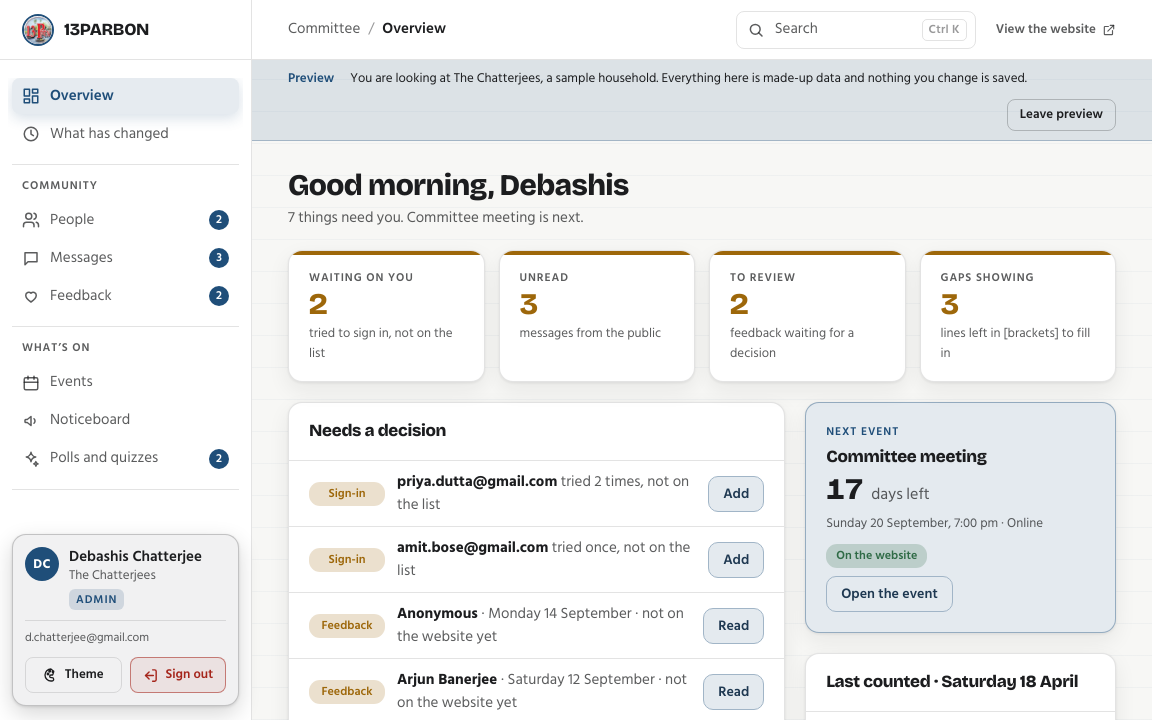
the committee’s search › takes Enter to the household, already open
The width and height of the screenshot is (1152, 720).
Click the button "Search Ctrl K" at (856, 30), box 736,10 -> 976,48
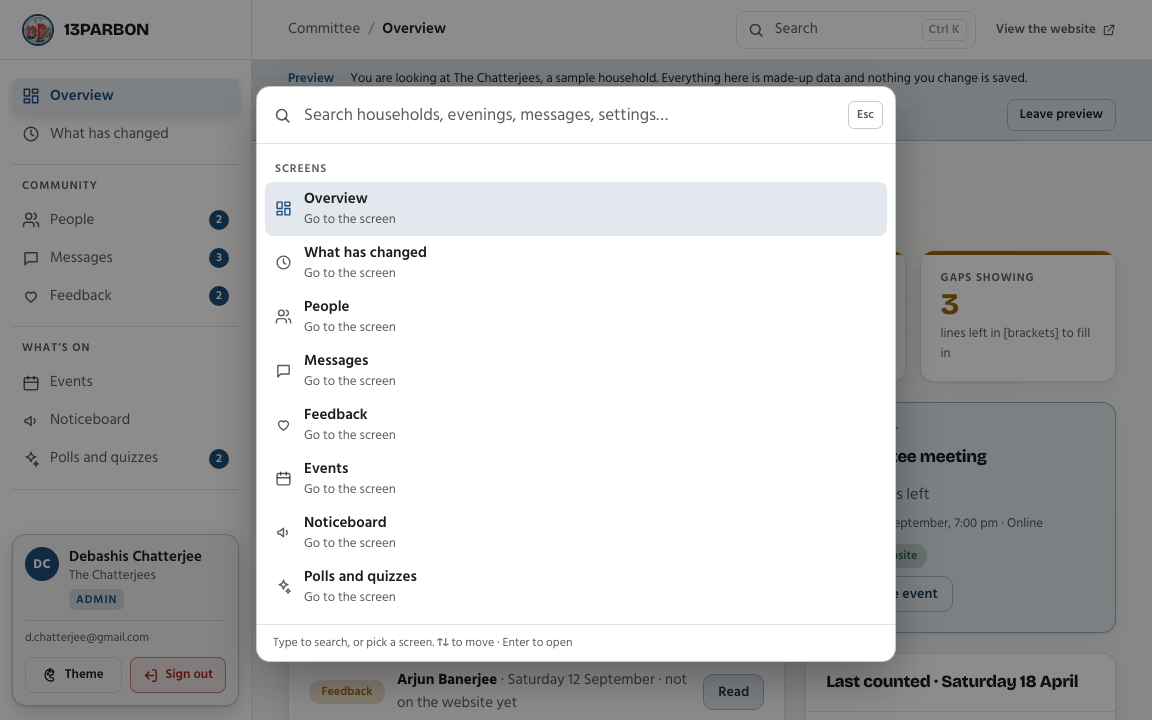
Type "dases" into the dropdown at (570, 115), box 302,87 -> 838,143
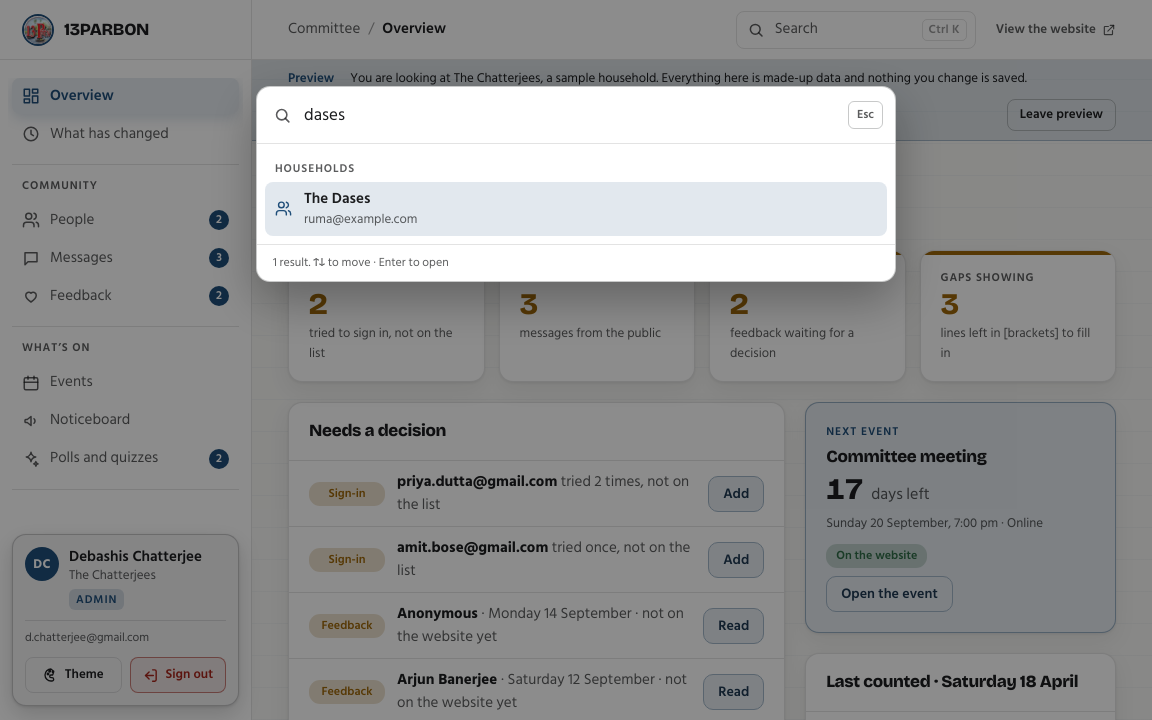
Press Enter
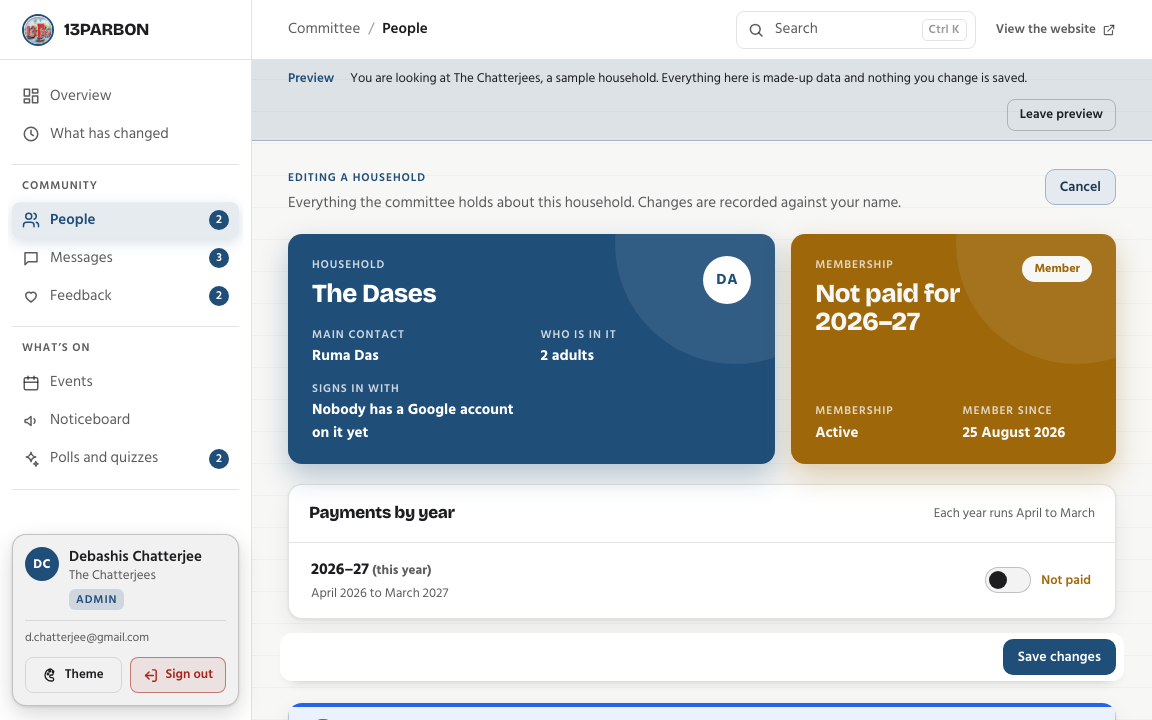
Check: the heading "The Dases" is shown, box 312,280 -> 436,308
Check: the dialog is gone
